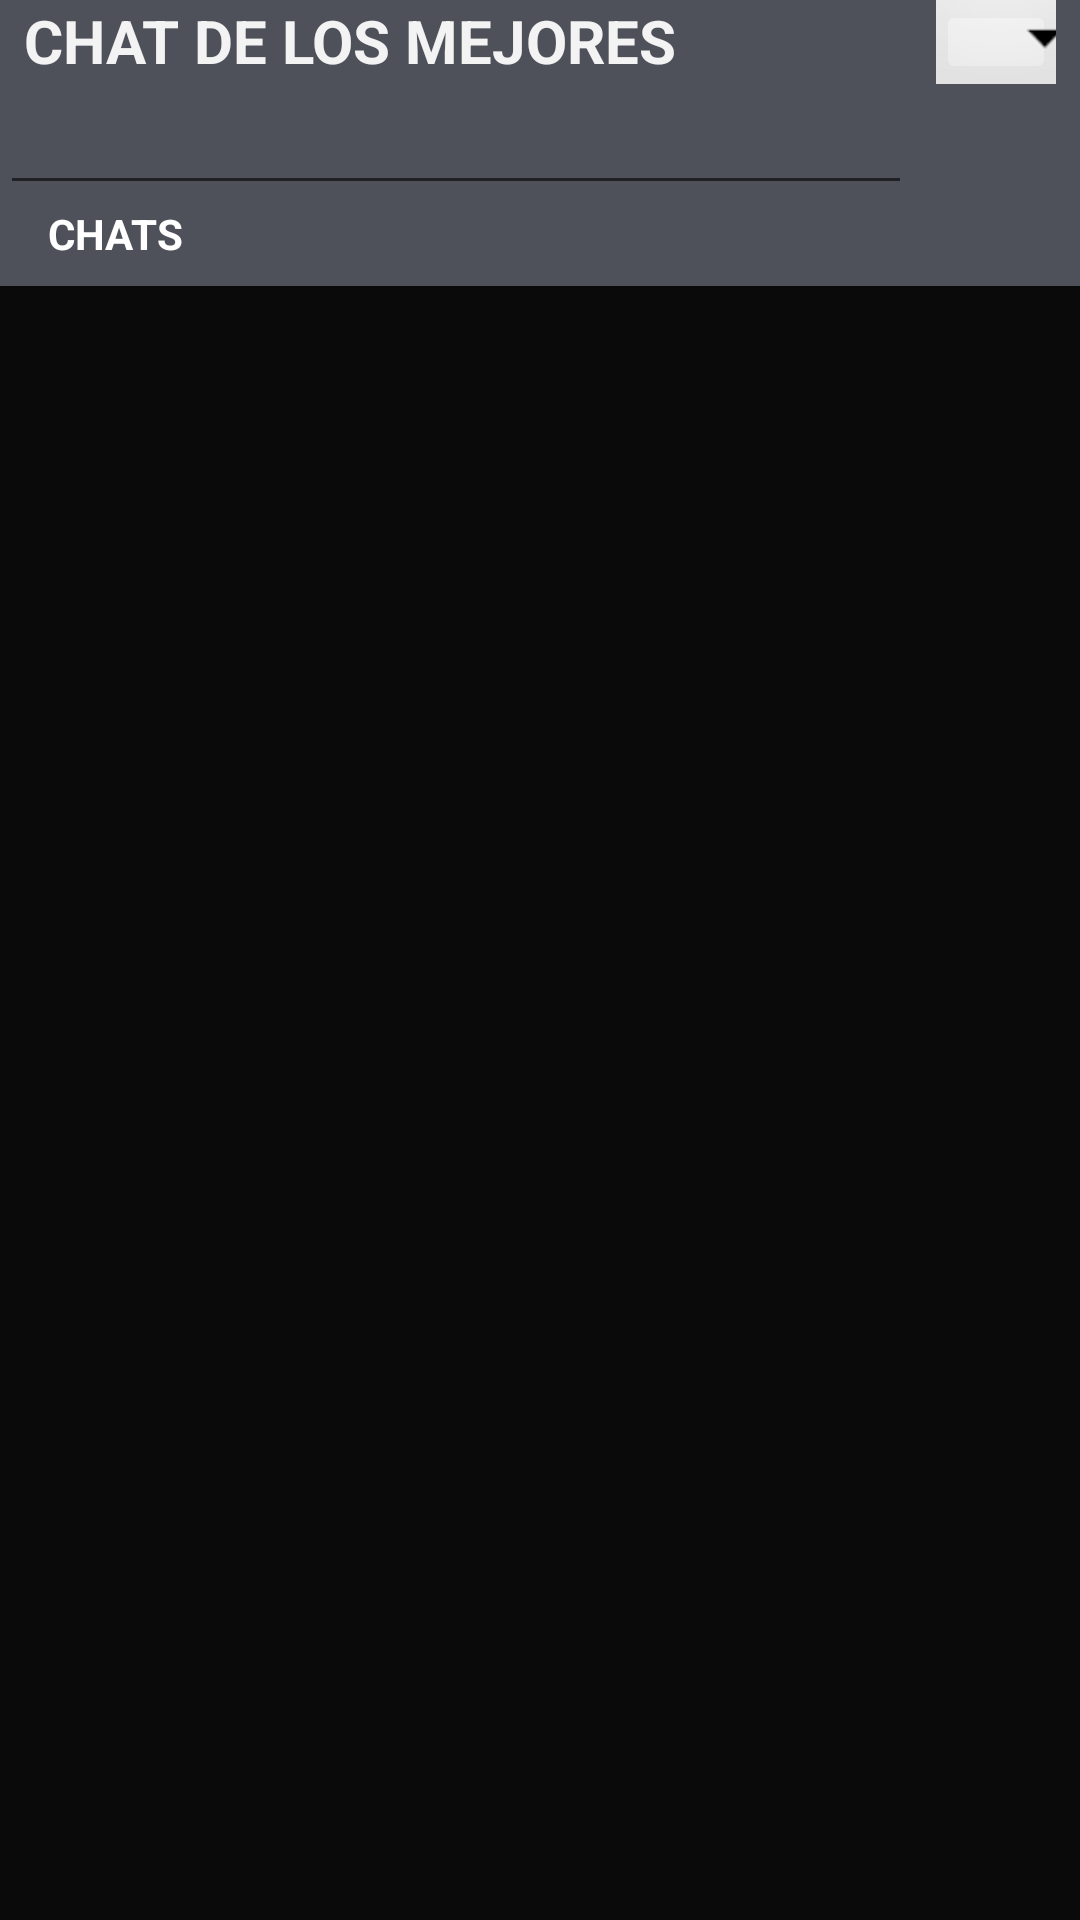

Named icons in this screenshot (1080px×1920px) and their centers, (x=x, y=y):
dropdown: (x=996, y=42)
